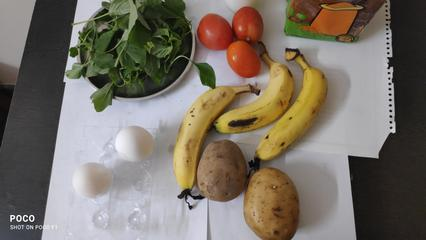banana: (170, 80, 240, 195), (244, 66, 320, 161)
eggs: (75, 123, 155, 203)
potato: (236, 165, 302, 232), (198, 145, 247, 202)
spinach: (93, 9, 172, 84)
tomato: (196, 8, 268, 72)
